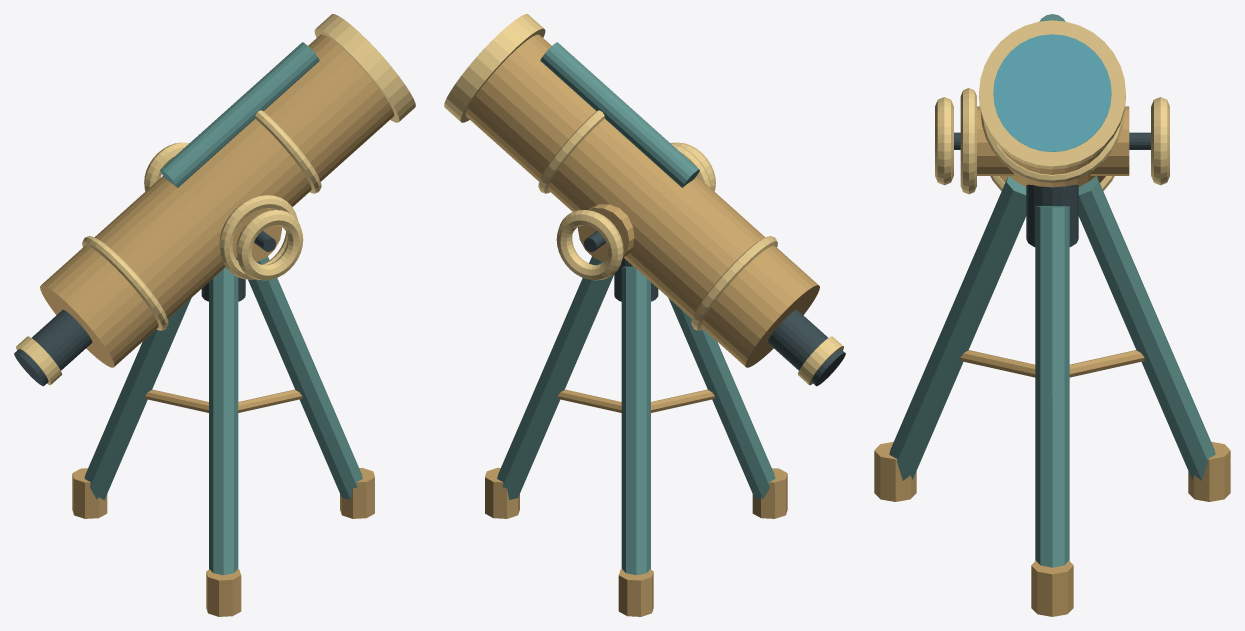
File: harbor-telescope.glb
3 renders of one model, left to right at view 1: azimuth 30°, elevation 25°; view 2: azimuth 150°, elevation 25°; view 3: azimuth 270°, elevation 25°, orthographic. The views are drawn at different scales.
Parts seen in each view (by area): view 1: optics / main brass barrel, tripod / cedar leg 2, tripod / cedar leg 0, tripod / cedar leg 1, finder / upper scope, optics / front lip, mount / knurled adjustment wheel, optics / dark eyepiece, mount / altitude dial, tripod / brass foot 2, optics / decorative barrel band, tripod / brass foot 1 (+7 smaller); view 2: optics / main brass barrel, tripod / cedar leg 1, tripod / cedar leg 0, tripod / cedar leg 2, finder / upper scope, optics / front lip, mount / knurled adjustment wheel.001, optics / dark eyepiece, tripod / brass foot 1, optics / decorative barrel band, mount / hinge, tripod / brass foot 2 (+5 smaller); view 3: tripod / cedar leg 0, optics / recessed lens, tripod / cedar leg 1, tripod / cedar leg 2, optics / front lip, mount / hinge, tripod / brass foot 0, mount / column, mount / altitude dial, tripod / brass foot 1, tripod / brass foot 2, mount / knurled adjustment wheel (+5 smaller).
Part boxes in pixels (x1,y1,x2,y2): optics / main brass barrel: [40, 34, 394, 367]; tripod / cedar leg 2: [209, 267, 238, 575]; tripod / cedar leg 0: [248, 256, 362, 499]; tripod / cedar leg 1: [84, 298, 191, 500]; finder / upper scope: [160, 42, 319, 187]; optics / front lip: [314, 14, 415, 122]; mount / knurled adjustment wheel: [236, 210, 303, 280]; optics / dark eyepiece: [14, 310, 92, 386]; mount / altitude dial: [219, 195, 298, 279]; tripod / brass foot 2: [206, 569, 241, 616]; optics / decorative barrel band: [82, 236, 168, 330]; tripod / brass foot 1: [72, 468, 107, 518]; optics / main brass barrel: [465, 34, 819, 367]; tripod / cedar leg 1: [621, 266, 650, 575]; tripod / cedar leg 0: [497, 256, 614, 499]; tripod / cedar leg 2: [668, 298, 775, 500]; finder / upper scope: [540, 42, 699, 187]; optics / front lip: [444, 14, 545, 122]; mount / knurled adjustment wheel.001: [556, 210, 623, 280]; optics / dark eyepiece: [767, 310, 845, 386]; tripod / brass foot 1: [618, 569, 653, 616]; optics / decorative barrel band: [691, 236, 777, 330]; mount / hinge: [578, 204, 634, 261]; tripod / brass foot 2: [752, 468, 787, 518]; tripod / cedar leg 0: [1035, 206, 1069, 567]; optics / recessed lens: [993, 34, 1111, 151]; tripod / cedar leg 1: [1078, 176, 1215, 480]; tripod / cedar leg 2: [889, 176, 1026, 480]; optics / front lip: [979, 20, 1125, 169]; mount / hinge: [977, 106, 1129, 175]; tripod / brass foot 0: [1031, 561, 1073, 616]; mount / column: [1026, 184, 1078, 246]; mount / altitude dial: [960, 88, 976, 194]; tripod / brass foot 1: [1188, 442, 1230, 501]; tripod / brass foot 2: [874, 442, 916, 501]; mount / knurled adjustment wheel: [935, 97, 953, 185].
Bounding box in the file's own units: 1.49 × 1.84 × 1.02.
